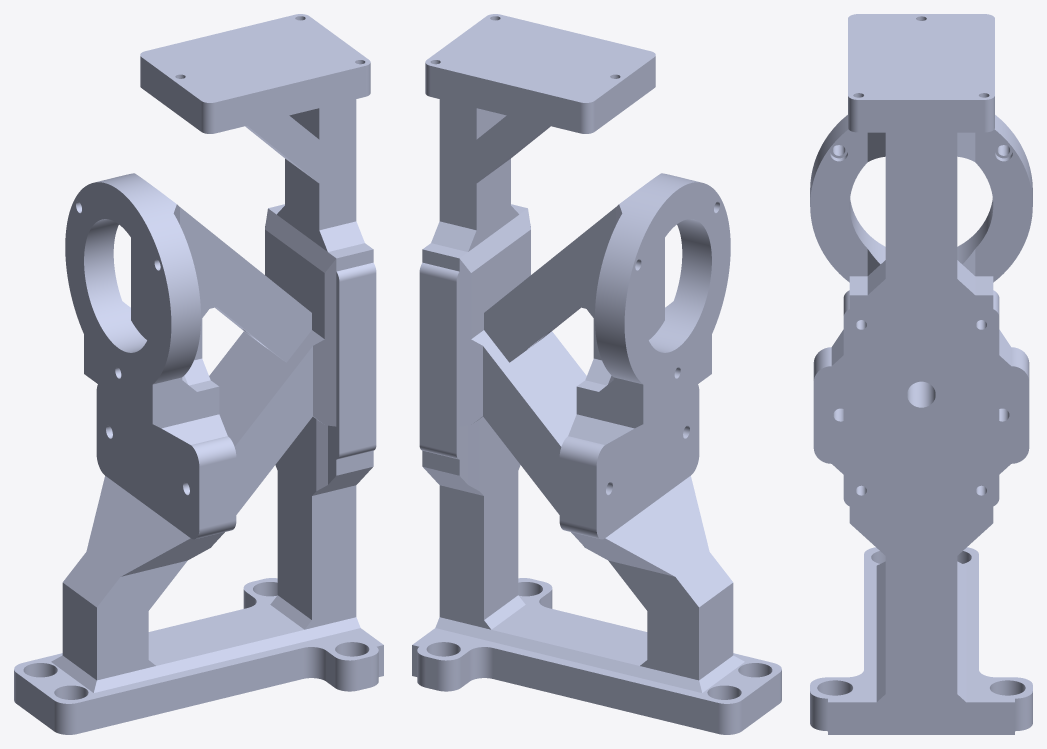
File: Suporte_Lidar_V006.dae
3 views of the same model, side by side, from view 1: azimuth 30°, elevation 25°; view 2: azimuth 150°, elevation 25°; view 3: azimuth 270°, elevation 25° (orthographic). The views are drawn at different scales.
Visible parts, largest first — view 1: ID2; view 2: ID2; view 3: ID2.
Part boxes in pixels (left/top/right/bottom): ID2: left=14, top=14, right=383, bottom=734; ID2: left=412, top=14, right=781, bottom=734; ID2: left=810, top=14, right=1032, bottom=734.
Size of the model in its own units: 0.1025 by 0.062 by 0.195.
